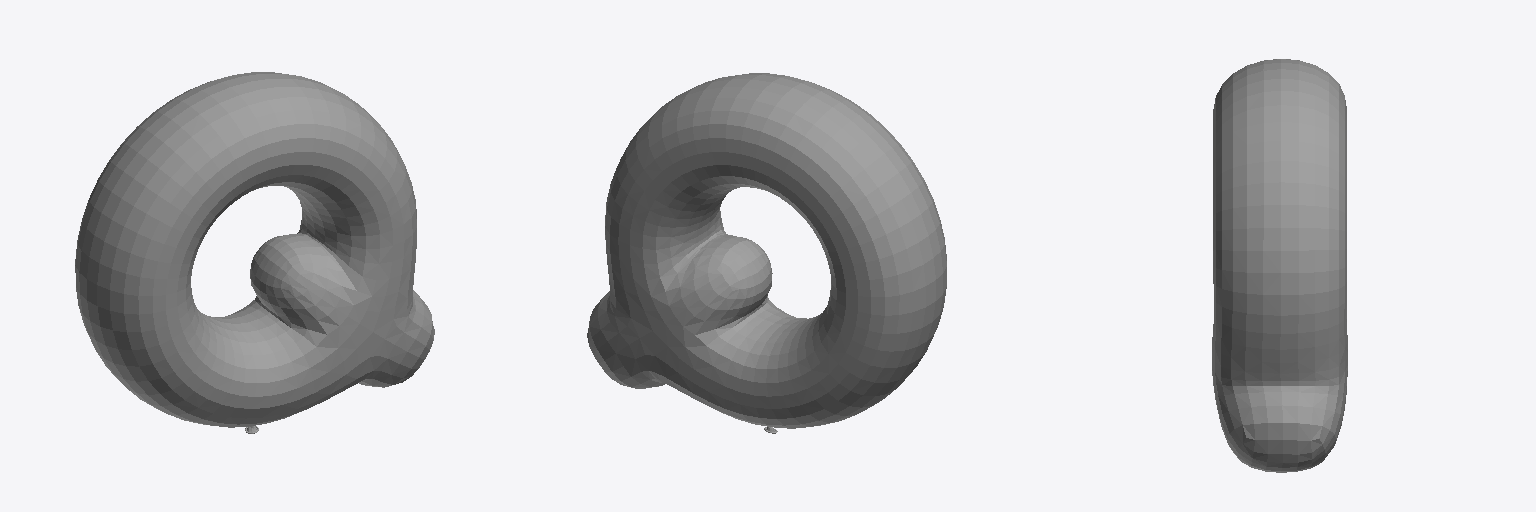
The picture shows the model from 3 angles: view 1: azimuth 30°, elevation 25°; view 2: azimuth 150°, elevation 25°; view 3: azimuth 270°, elevation 25°; orthographic projection.
Visible parts, largest first — view 1: Balloon_Alphabet_Subdivision_Q_Alphabet_Q; view 2: Balloon_Alphabet_Subdivision_Q_Alphabet_Q; view 3: Balloon_Alphabet_Subdivision_Q_Alphabet_Q.
Boxes of the visible parts, <box> form: Balloon_Alphabet_Subdivision_Q_Alphabet_Q: <box>75,72,434,433</box>; Balloon_Alphabet_Subdivision_Q_Alphabet_Q: <box>587,73,946,433</box>; Balloon_Alphabet_Subdivision_Q_Alphabet_Q: <box>1212,59,1347,472</box>.
Size of the model in its own units: 51.8 by 51.45 by 18.11.